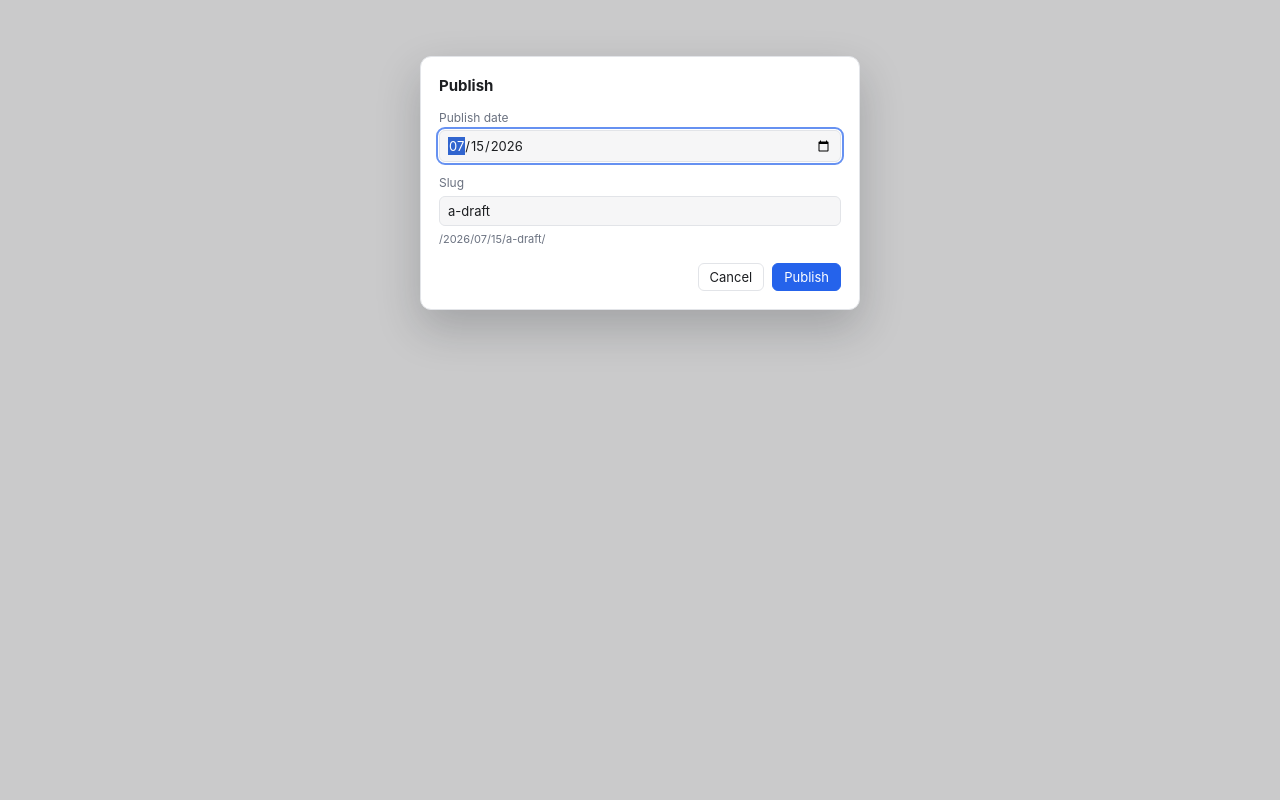
Test: PublishDialog — live URL preview › hides the preview and shows a hint instead once the slug has invalid characters
The width and height of the screenshot is (1280, 800).
Replace the text in the field labelled "Slug" with "not a valid slug": (640, 210) [439, 196, 841, 226]
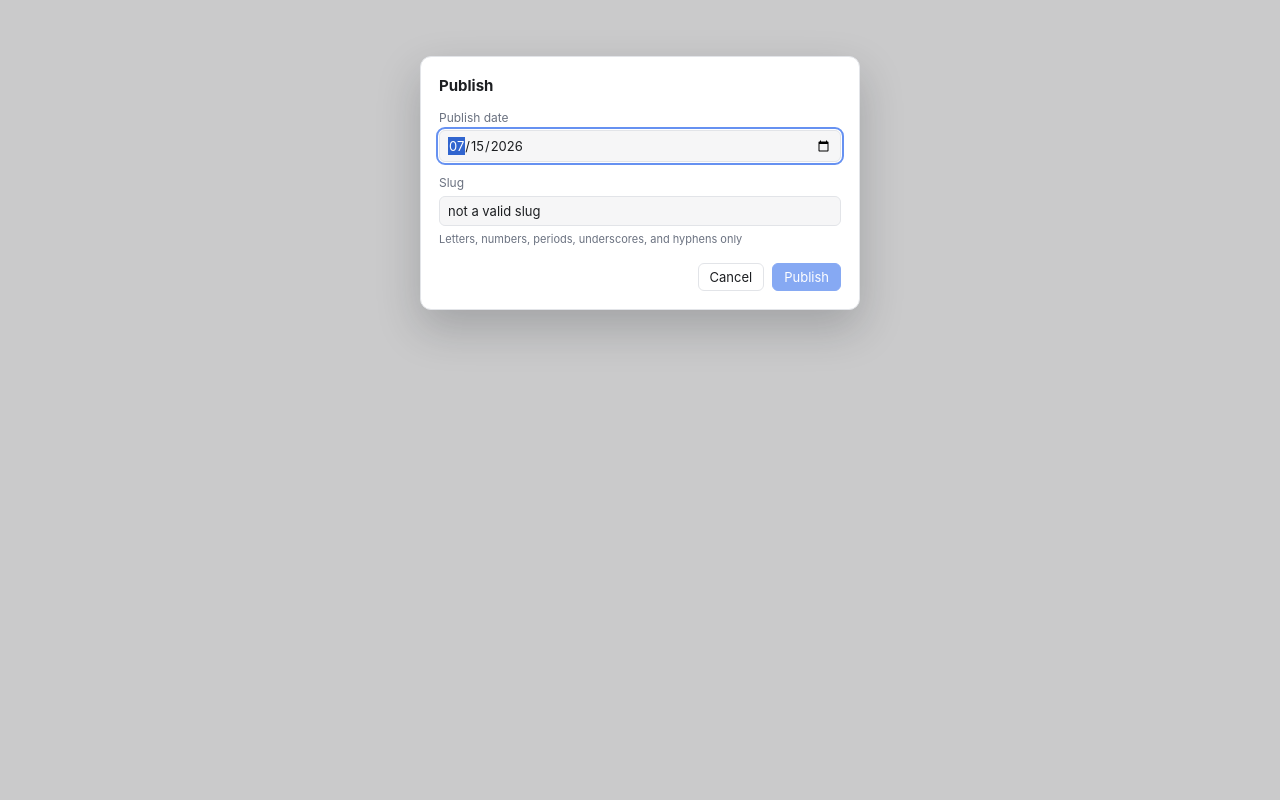
Now the text "/2026/07/15/a-draft/" is gone
